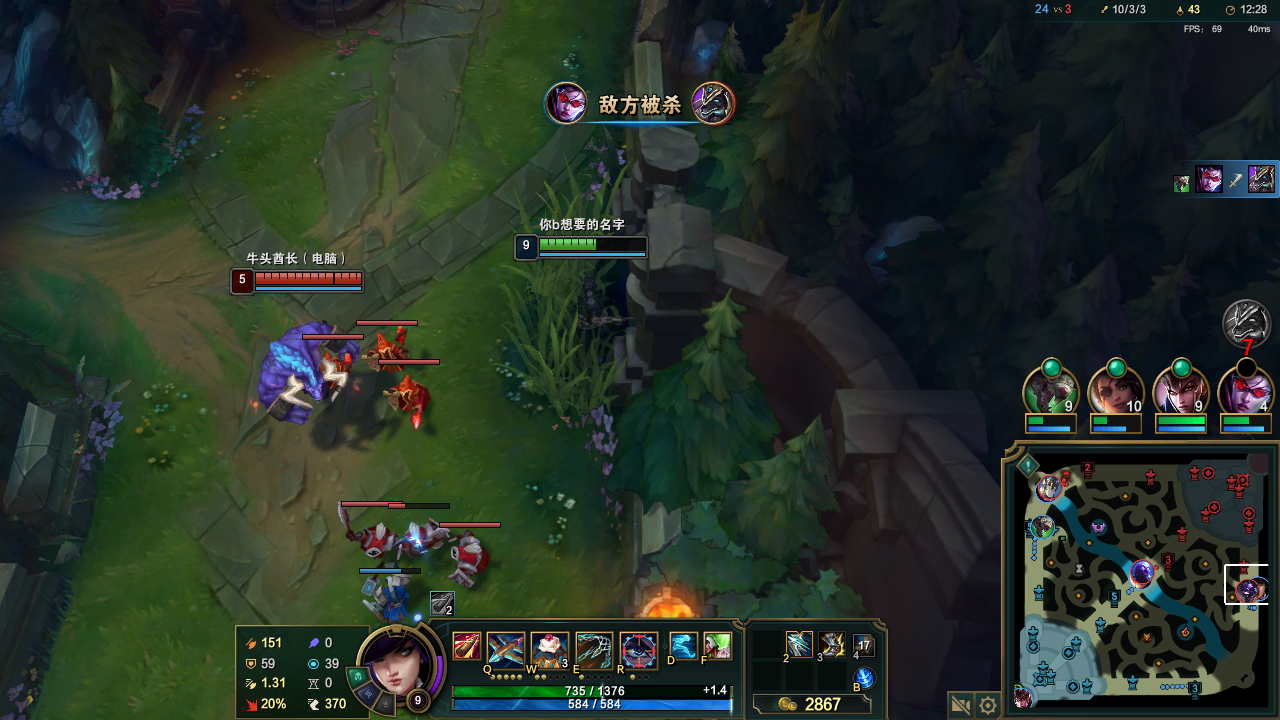DFXB: (452, 537, 493, 584), (381, 380, 429, 417), (399, 517, 441, 554), (356, 523, 396, 560), (365, 329, 403, 361)
DFYX: (252, 273, 366, 284)
KF: (789, 635, 807, 648)
WFXB: (372, 578, 409, 618)
